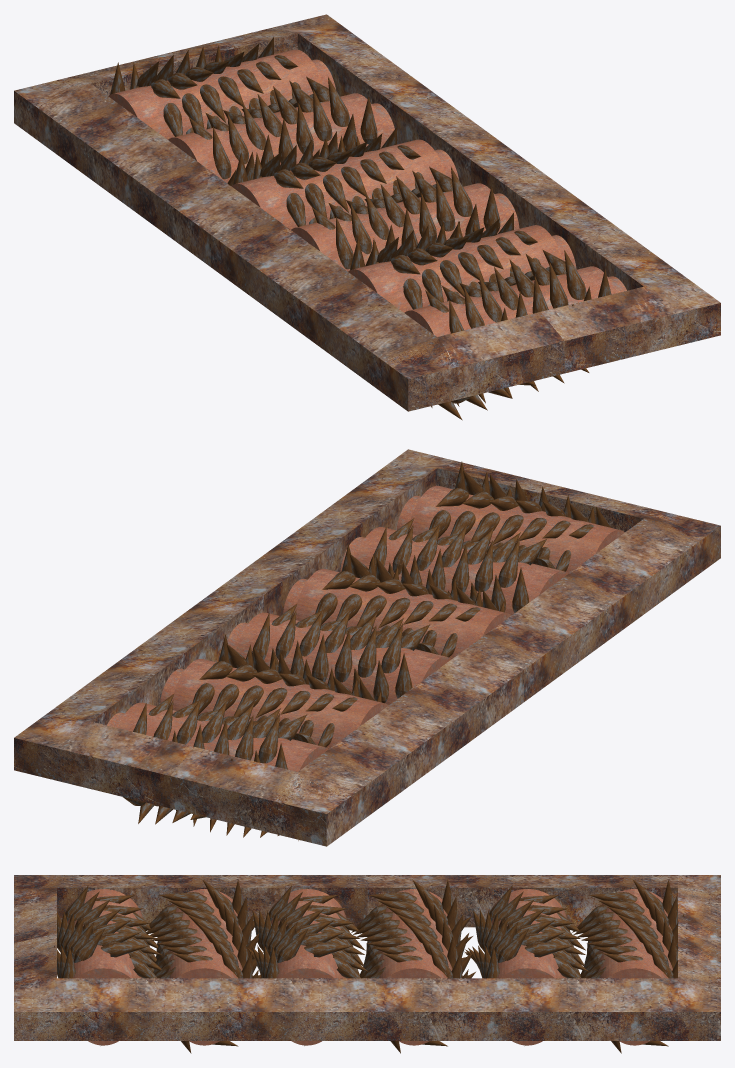
File: game_stage_base.fbx
3 renders of one model, top to bottom at view 1: azimuth 30°, elevation 25°; view 2: azimuth 150°, elevation 25°; view 3: azimuth 270°, elevation 25°, orthographic. The views are drawn at different scales.
Visible parts, largest first — view 1: Guide, Grinder_4, Grinder_6, Grinder_5, Grinder_2, Grinder_3, Grinder_1; view 2: Guide, Grinder_4, Grinder_3, Grinder_5, Grinder_1, Grinder_2, Grinder_6; view 3: Guide, Grinder_4, Grinder_2, Grinder_6, Grinder_5, Grinder_3, Grinder_1.
Boxes of the visible parts, x1,y1,x2,y2 form: Guide: (14, 14, 720, 411); Grinder_4: (231, 127, 458, 229); Grinder_6: (108, 37, 335, 139); Grinder_5: (168, 76, 394, 185); Grinder_2: (348, 212, 576, 312); Grinder_3: (291, 166, 519, 271); Grinder_1: (404, 249, 626, 420); Guide: (14, 449, 720, 846); Grinder_4: (227, 603, 451, 705); Grinder_3: (283, 544, 511, 658); Grinder_5: (160, 634, 388, 748); Grinder_1: (396, 461, 624, 573); Grinder_2: (340, 518, 568, 615); Grinder_6: (107, 693, 328, 840); Guide: (14, 875, 720, 1040); Grinder_4: (351, 879, 475, 1053); Grinder_2: (144, 879, 263, 1053); Grinder_6: (572, 879, 683, 1053); Grinder_5: (464, 885, 588, 1045); Grinder_3: (247, 885, 368, 1045); Grinder_1: (54, 885, 161, 1045).
Size of what is drawn, in the model's own units: 386 by 157 by 843.
